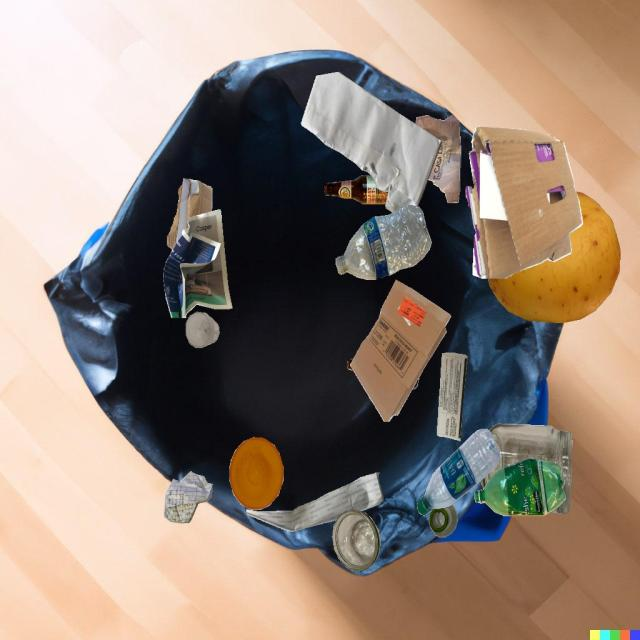biowaste: (488, 191, 620, 323)
cardboard: (466, 126, 583, 279), (350, 280, 451, 422), (167, 178, 212, 250)
glass: (481, 423, 572, 515), (332, 509, 381, 572), (324, 175, 388, 204), (185, 312, 219, 348), (429, 504, 458, 537), (412, 377, 419, 389), (347, 359, 353, 371)
paper: (301, 71, 442, 213), (246, 473, 383, 532), (163, 210, 232, 318), (415, 115, 461, 203), (437, 352, 468, 441), (164, 471, 213, 524)
plastic: (336, 204, 432, 280), (417, 429, 500, 515), (474, 458, 565, 516), (229, 437, 284, 510)
